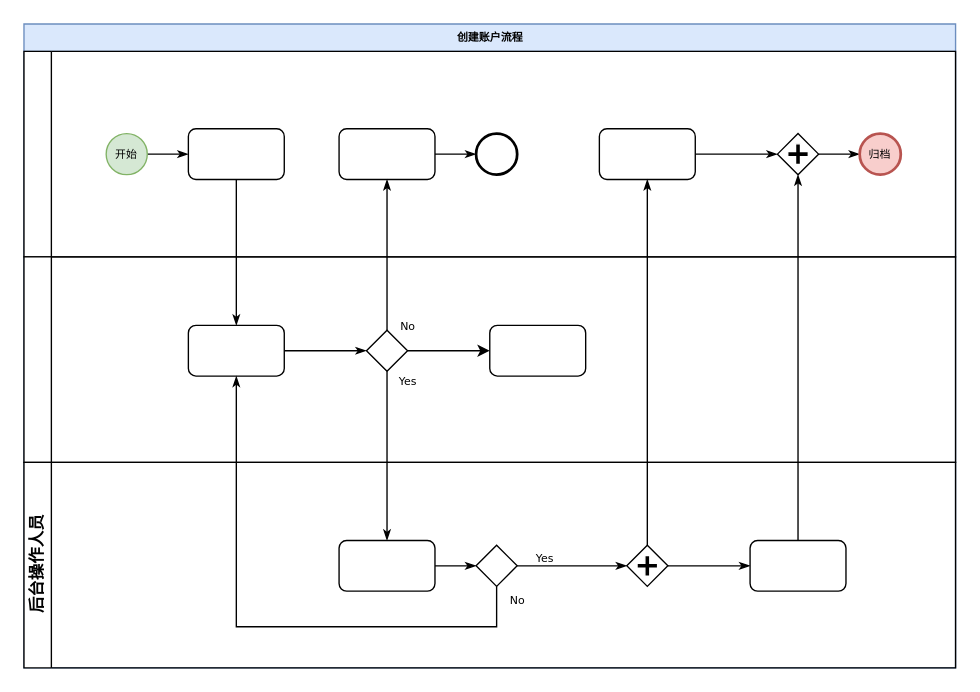
The diagram is 980 pixels wide and 692 high, and some of its shapes have lost their labels. Here are the shapes that lost their labels. From the top down, the box of each, then its label:
(23, 50, 956, 257): 客户侧
(23, 256, 956, 462): 客户经理
